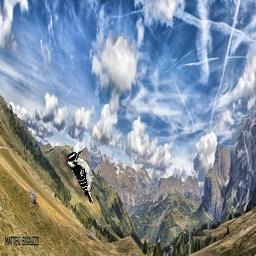Woodpecker: (66, 150, 105, 203)
